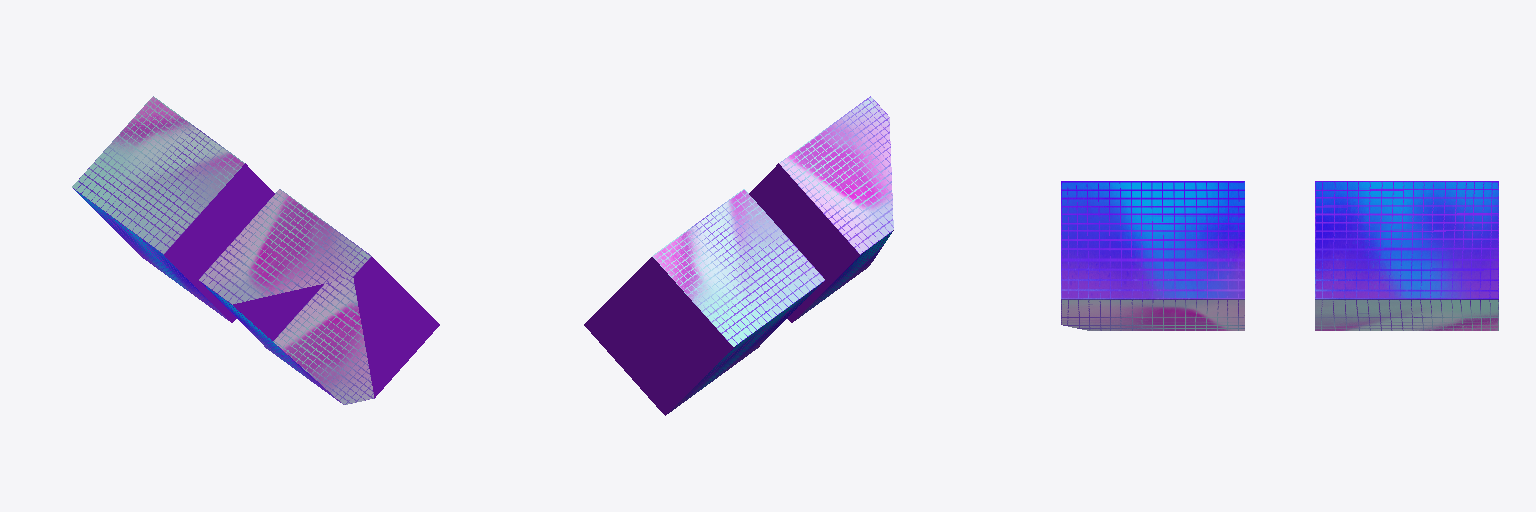
3 views of the same model, side by side, from view 1: azimuth 30°, elevation 25°; view 2: azimuth 150°, elevation 25°; view 3: azimuth 270°, elevation 25° (orthographic).
Visible parts, largest first — view 1: Build_B_Bot, Build_B_Top; view 2: Build_B_Top, Build_B_Bot; view 3: Build_B_Top, Build_B_Bot.
Part boxes in pixels (bbox=[...]): Build_B_Bot: bbox=[199, 189, 439, 404]; Build_B_Top: bbox=[72, 96, 274, 322]; Build_B_Top: bbox=[584, 189, 824, 415]; Build_B_Bot: bbox=[749, 96, 893, 322]; Build_B_Top: bbox=[1315, 181, 1498, 330]; Build_B_Bot: bbox=[1061, 181, 1244, 330].
Size of the model in its own units: 0.372 by 0.3719 by 0.9403.
1 materials, 1 textured.